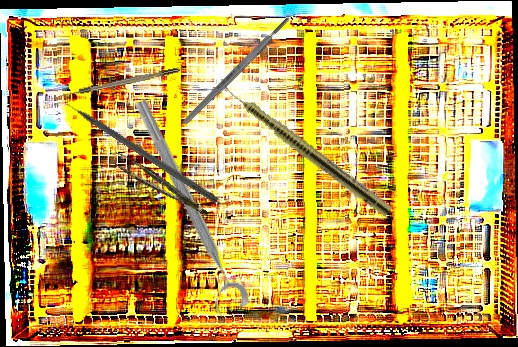Fixation Ring: (116, 96, 253, 319)
Handpiece: (213, 76, 395, 218)
Hook Surgical: (56, 93, 221, 204), (57, 67, 181, 99)
Scalpel Handle: (179, 13, 294, 128)
Tissue Forceps: (109, 145, 209, 228)
